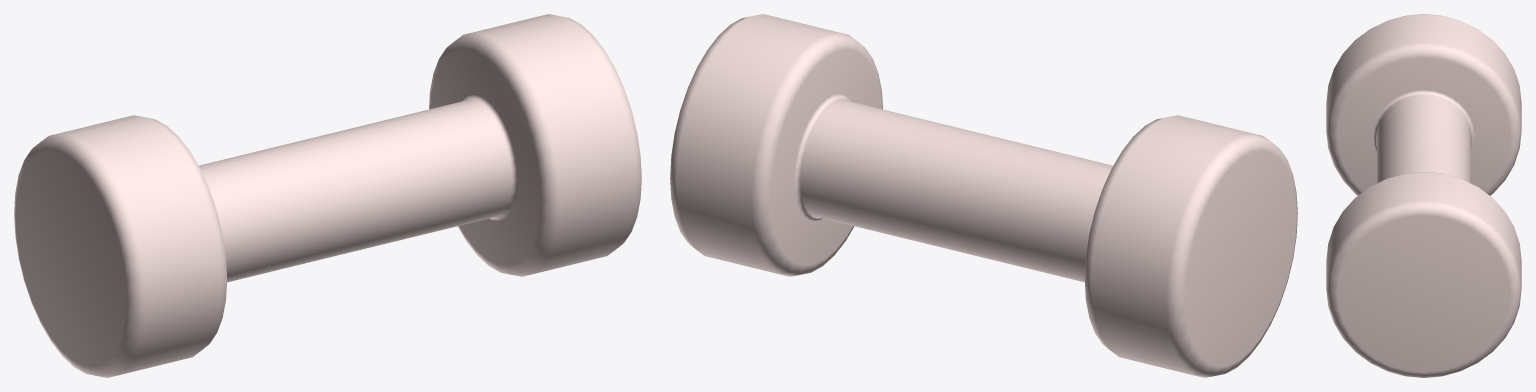
File: Public_18_Dumbbell_2.glb
3 renders of one model, left to right at view 1: azimuth 30°, elevation 25°; view 2: azimuth 150°, elevation 25°; view 3: azimuth 270°, elevation 25°, orthographic. The views are drawn at different scales.
Visible parts, largest first — view 1: Public_18_Dumbbell_2; view 2: Public_18_Dumbbell_2; view 3: Public_18_Dumbbell_2.
Boxes of the visible parts, x1,y1,x2,y2 form: Public_18_Dumbbell_2: [14, 14, 641, 377]; Public_18_Dumbbell_2: [670, 14, 1297, 377]; Public_18_Dumbbell_2: [1326, 14, 1521, 377].
Size of the model in its own units: 0.9428 by 0.3975 by 0.3975.
1 material, 1 textured.
